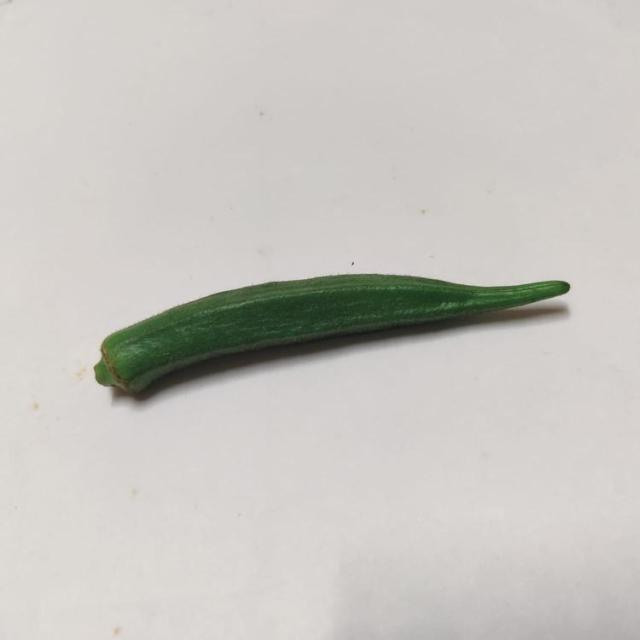Organik: (96, 253, 582, 418)
